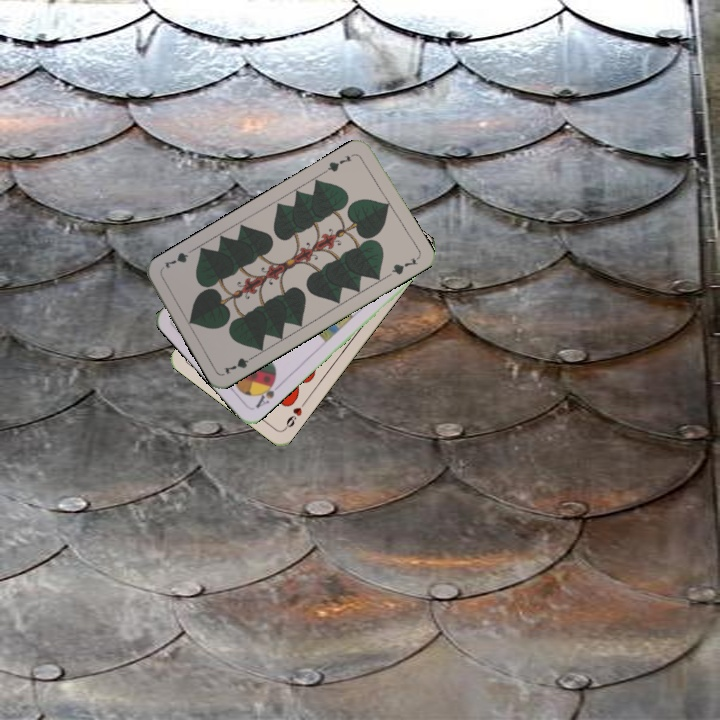G7: (220, 351, 258, 377), (321, 149, 358, 175)
H9: (280, 397, 309, 432)
SA: (251, 375, 284, 411)
